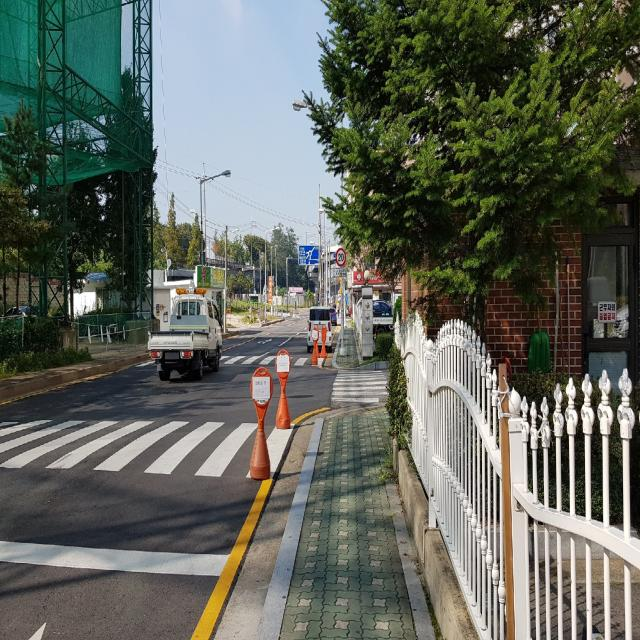횡단보도: (0, 424, 254, 469), (330, 369, 390, 404)
